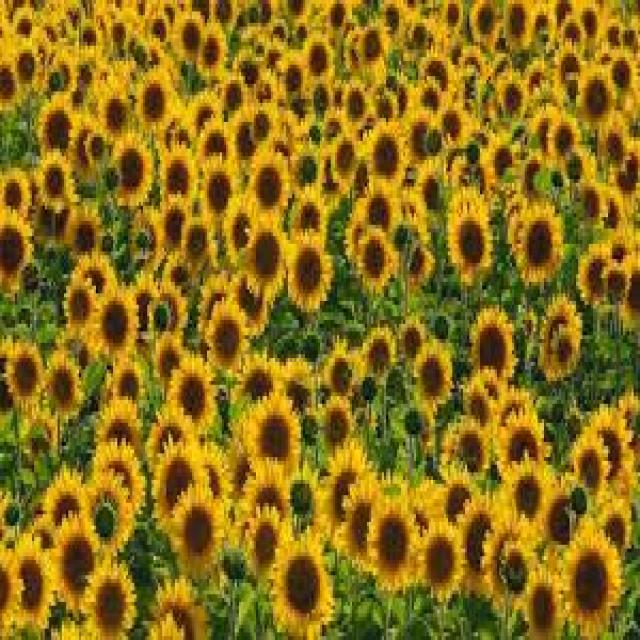sunflower: (266, 529, 341, 640), (560, 529, 624, 640), (242, 394, 306, 497), (42, 512, 104, 616), (163, 478, 225, 581), (454, 488, 500, 598), (444, 192, 495, 288), (81, 551, 134, 638), (466, 307, 517, 394), (573, 230, 615, 334), (320, 449, 370, 536), (498, 453, 545, 545), (31, 91, 80, 179), (196, 301, 248, 381), (88, 465, 130, 564), (511, 200, 564, 276), (280, 227, 328, 310), (237, 225, 290, 297), (243, 143, 288, 227), (367, 486, 405, 584), (94, 278, 136, 366), (408, 335, 454, 415), (108, 130, 152, 213), (360, 116, 408, 192), (7, 328, 48, 412), (419, 520, 464, 596), (351, 229, 396, 301), (41, 347, 83, 423), (58, 274, 104, 343), (0, 213, 36, 300), (519, 560, 560, 636), (568, 424, 605, 508), (34, 148, 79, 214), (192, 12, 230, 88), (325, 335, 362, 408), (319, 390, 355, 463), (579, 68, 618, 134), (546, 103, 583, 171), (176, 210, 217, 270), (196, 118, 233, 183), (147, 335, 190, 389), (132, 76, 171, 134), (467, 0, 504, 57), (302, 32, 340, 86), (356, 21, 390, 74), (495, 70, 525, 120)
